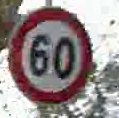limite 60: (5, 3, 92, 107)
